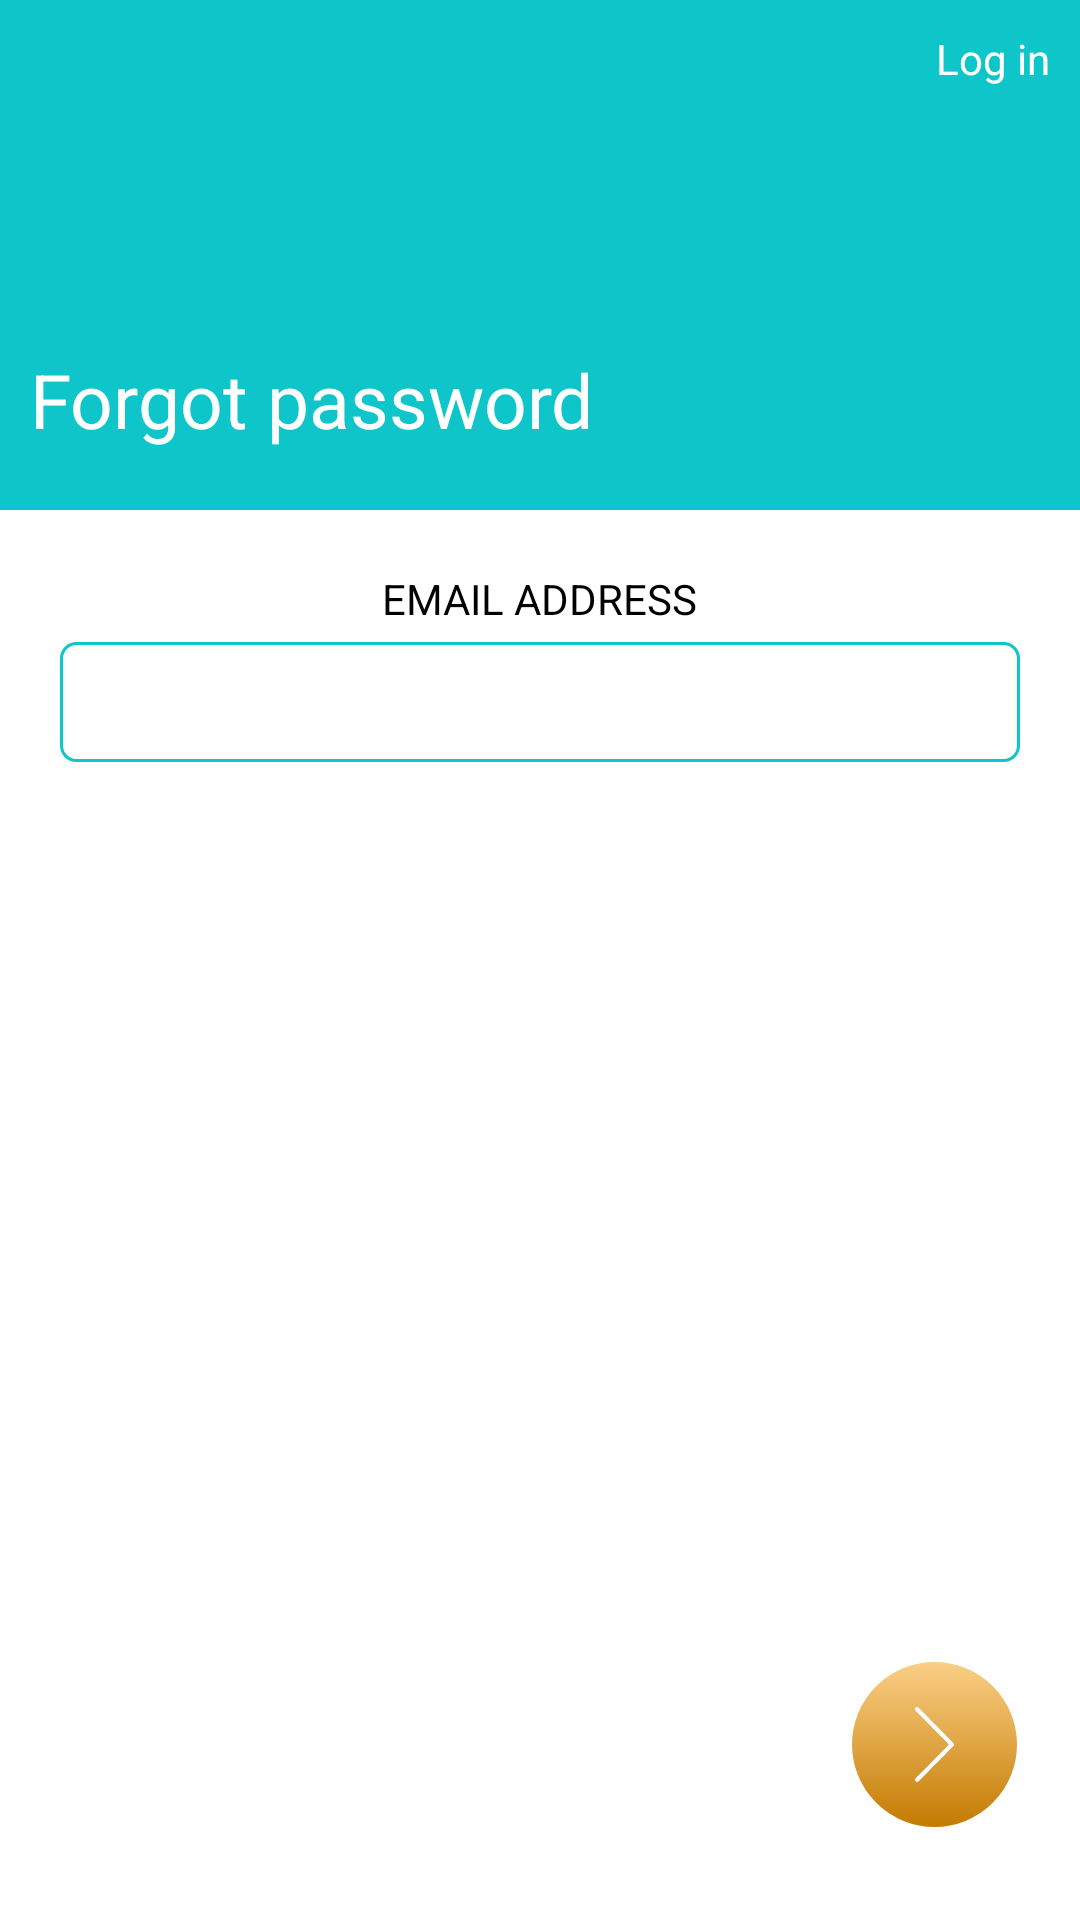

Named icons in this screenshot (1080*1920) and their centers, point (x, y):
arrow right: point (934, 1744)
